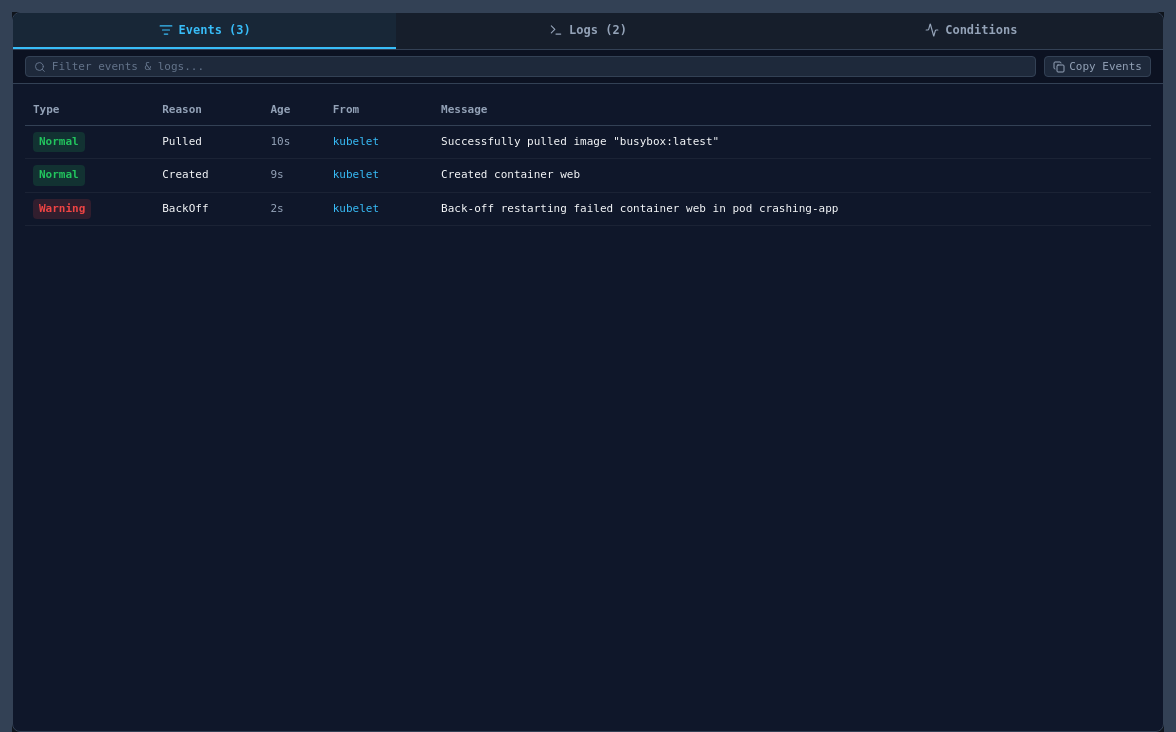
DiagnosticLogPanel › clears filter query when clear filter button is clicked
Step 1. Type "nonexistent-xyz" into the field with test id "diag-filter-input" → point(540, 66), box [52,60,1027,73]
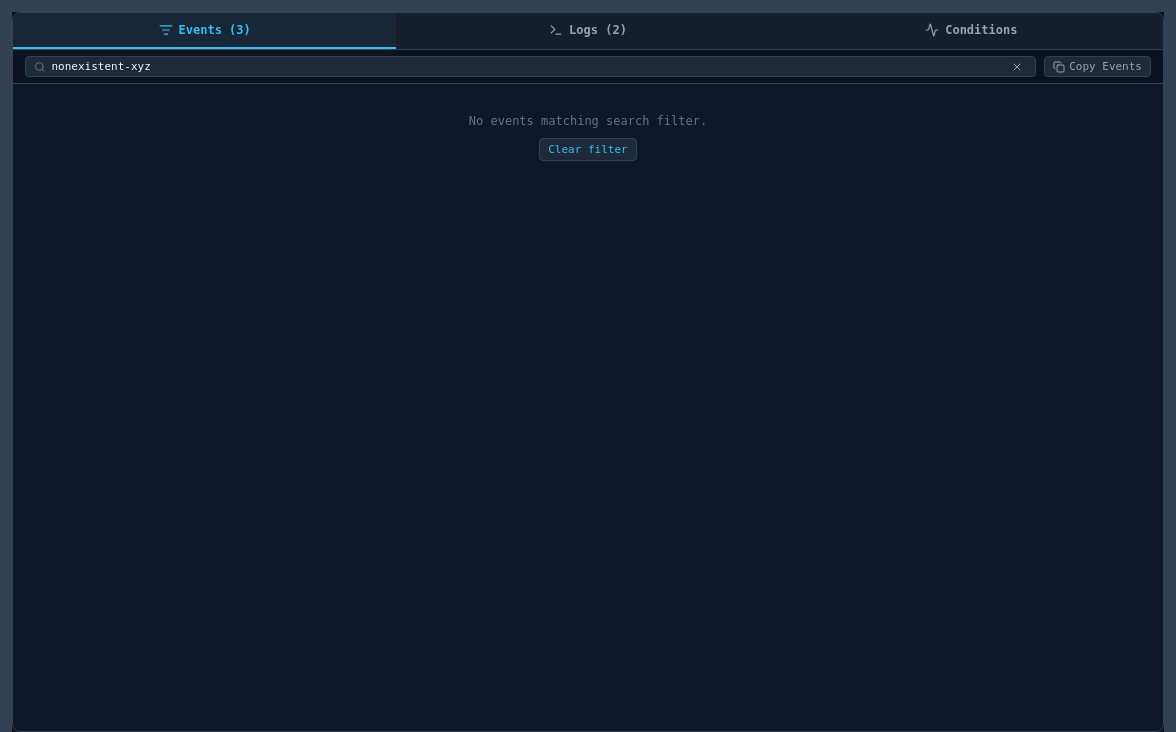
Now the button with test id "clear-diag-filter-btn" is shown
Step 2. Click the button with test id "clear-diag-filter-btn" → point(588, 150), box [539,138,637,161]
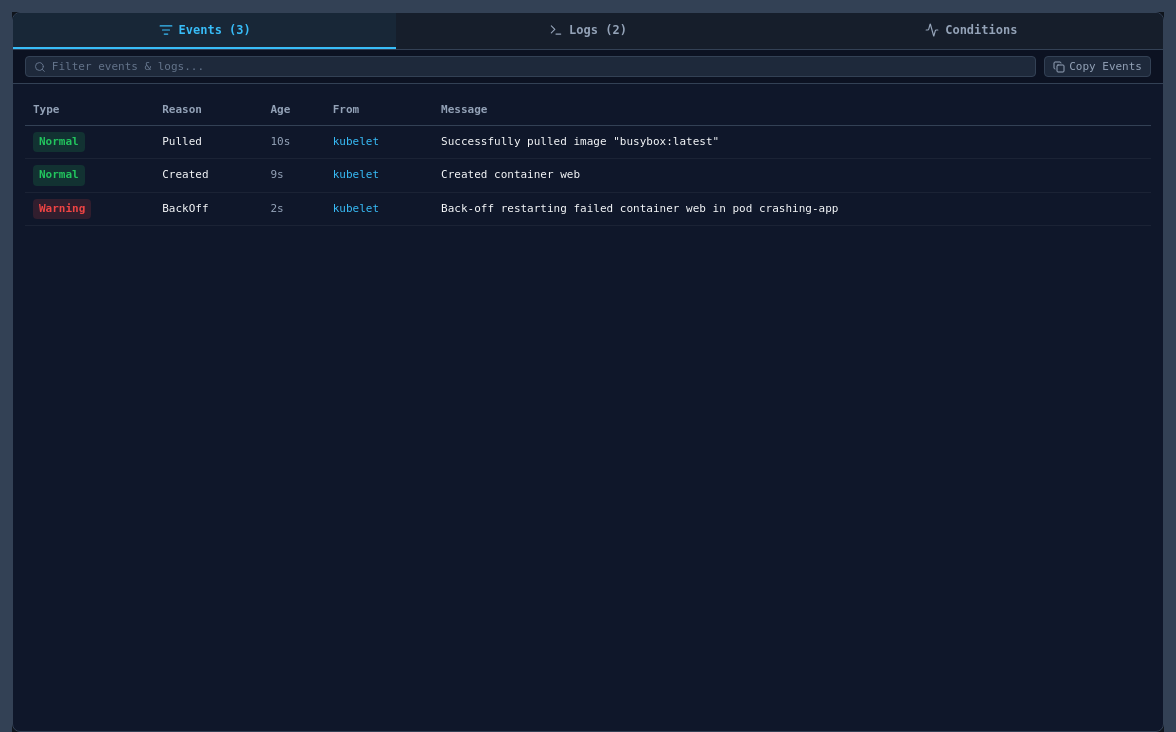
Now the field with test id "diag-filter-input" is empty, box [52,60,1027,73]
